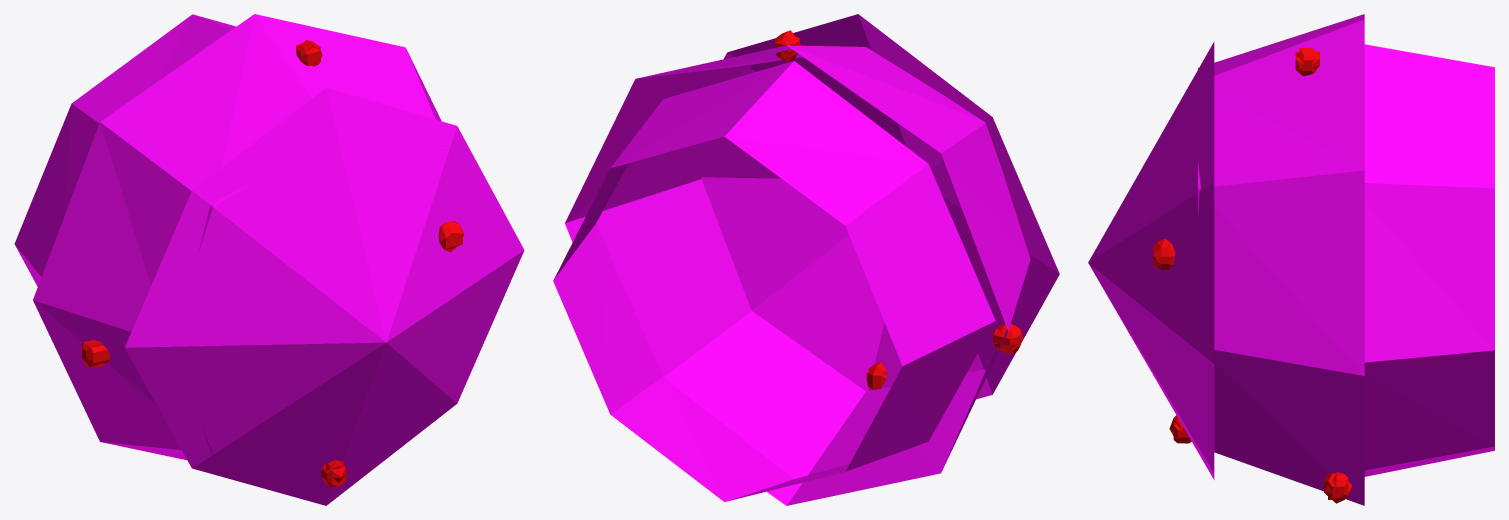
File: redberrybush.obj
The picture shows the model from 3 angles, left to right: view 1: azimuth 30°, elevation 25°; view 2: azimuth 150°, elevation 25°; view 3: azimuth 270°, elevation 25°; orthographic projection. The views are drawn at different scales.
Parts seen in each view (by area): view 1: redberrybush; view 2: redberrybush; view 3: redberrybush.
Boxes of the visible parts, x1=… form: redberrybush: x1=14, y1=14, x2=524, y2=505; redberrybush: x1=553, y1=14, x2=1059, y2=505; redberrybush: x1=1088, y1=14, x2=1494, y2=505.
Bounding box in the file's own units: 1.32 × 1.31 × 1.
